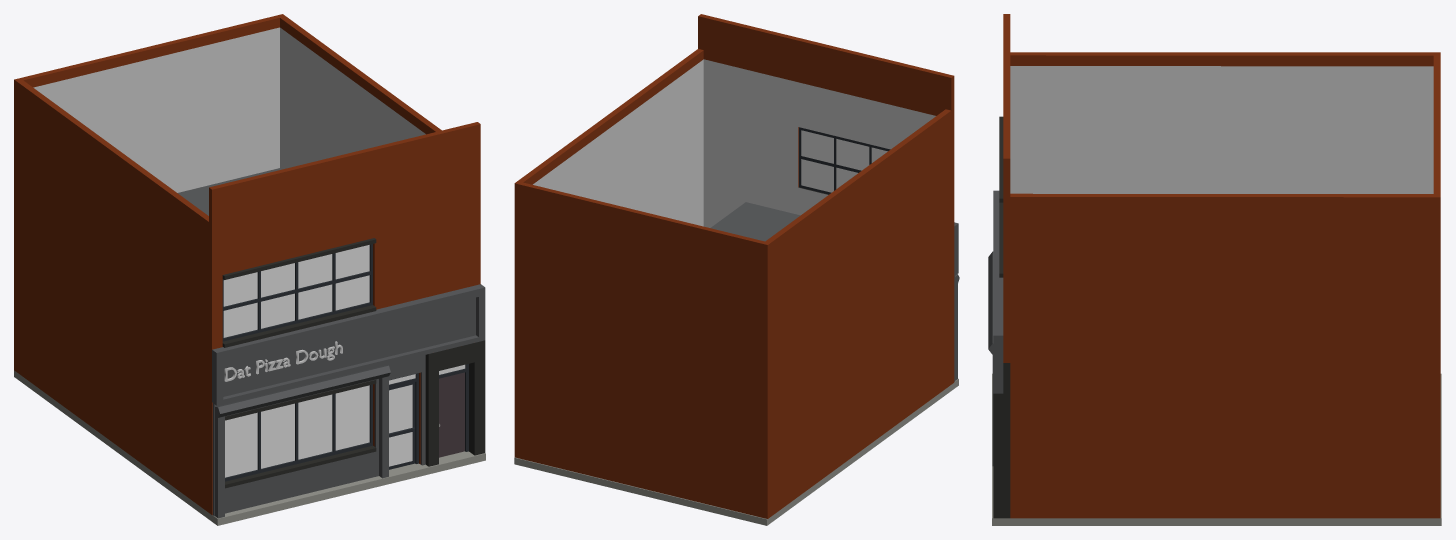
File: Dat Pizza Dough.fbx
3 views of the same model, side by side, from view 1: azimuth 30°, elevation 25°; view 2: azimuth 150°, elevation 25°; view 3: azimuth 270°, elevation 25° (orthographic). The views are drawn at different scales.
Visible parts, largest first — view 1: Exterior, Cube, Store Closer, Glass.001, Glass.002, Floor/Staircase, 2nd Floor Window, Front Door, Glass, Front Glass Door.006, Text, Floor/Staircase.001 (+1 smaller); view 2: Exterior, Floor/Staircase, Glass.002, Floor/Staircase.001, 2nd Floor Window; view 3: Exterior, Floor/Staircase, Cube, Store Closer.
Boxes of the visible parts, <box> form: Exterior: <box>14,14,485,514</box>; Cube: <box>212,284,485,405</box>; Store Closer: <box>212,355,425,518</box>; Glass.001: <box>225,385,369,477</box>; Glass.002: <box>223,245,369,337</box>; Floor/Staircase: <box>14,370,485,525</box>; 2nd Floor Window: <box>222,244,372,341</box>; Front Door: <box>439,372,464,457</box>; Glass: <box>389,384,412,466</box>; Front Glass Door.006: <box>225,384,372,481</box>; Text: <box>224,341,342,381</box>; Floor/Staircase.001: <box>177,179,237,215</box>; Exterior: <box>514,14,954,518</box>; Floor/Staircase: <box>514,378,958,525</box>; Glass.002: <box>801,130,887,192</box>; Floor/Staircase.001: <box>710,202,800,241</box>; 2nd Floor Window: <box>799,127,890,194</box>; Exterior: <box>993,14,1440,518</box>; Floor/Staircase: <box>992,373,1441,525</box>; Cube: <box>993,190,1003,393</box>; Store Closer: <box>988,251,993,465</box>.
Size of the model in its own units: 817 by 966 by 1081.
